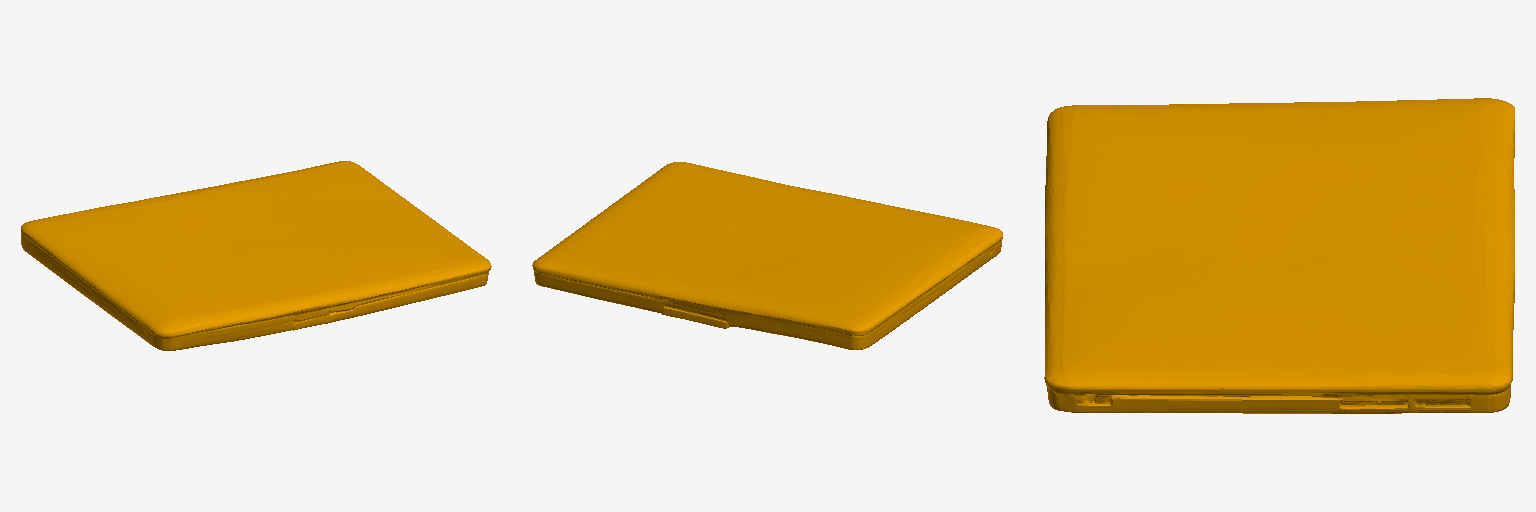
The robot description file, URDF, robot "sample":
<?xml version="1.0" ?>
<robot name="sample">
   <link name="sample">
      <visual>
         <origin xyz="0 0 0" rpy="1.5708 0.0 0.0"/>
         <geometry>
            <mesh filename="mesh/sample.obj" scale="1.0 1.0 1.0"/>
         </geometry>
      </visual>
      <collision>
         <origin xyz="0 0 0" rpy="1.5708 0.0 0.0"/>
         <geometry>
            <mesh filename="mesh/sample_collision.obj" scale="1.0 1.0 1.0"/>
         </geometry>
         <gazebo>
            <mu1>0.70</mu1>
            <mu2>0.55</mu2>
         </gazebo>
      </collision>
      <inertial>
         <mass value="1.5000"/>
         <origin xyz="0 0 0"/>
         <inertia ixx="1.0" ixy="0.0" ixz="0.0" iyy="1.0" iyz="0.0" izz="1.0"/>
      </inertial>
      <extra_info>
         <scale>0.191229</scale>
         <version>v0.1.7</version>
         <category>laptop</category>
         <description>slim silver laptop with closed lid and visible ports</description>
         <min_height>0.018</min_height>
         <max_height>0.025</max_height>
         <real_height>0.0215</real_height>
         <min_mass>1.2</min_mass>
         <max_mass>1.8</max_mass>
         <generate_time>20260309173232</generate_time>
         <gs_model>mesh/sample_gs.ply</gs_model>
      </extra_info>
   </link>
   <custom_data>
      <quality>
         <MeshGeoChecker>YES</MeshGeoChecker>
         <ImageSegChecker>NO, object is not properly isolated; background elements remain and segmentation is inaccurate.</ImageSegChecker>
         <ImageAestheticChecker>4.8562222719192505</ImageAestheticChecker>
         <overall>NO</overall>
      </quality>
   </custom_data>
</robot>

--- Render facts (derived) ---
Views: 3 orthographic renders of the robot side by side, from view 1: azimuth 30°, elevation 25°; view 2: azimuth 150°, elevation 25°; view 3: azimuth 270°, elevation 25°.
Model sample with 1 links and 0 joints (none), rooted at sample, posed all joints at 0.
Links seen in each view (by area): view 1: sample; view 2: sample; view 3: sample.
Link boxes in pixels (x1,y1,x2,y2): sample: (21, 161, 491, 350); sample: (532, 162, 1002, 349); sample: (1044, 98, 1514, 413).
Size in the robot's own frame: 0.1912 by 0.1447 by 0.0215 metres.
Meshes: 1 distinct files referenced, 1 mesh visuals loaded (1 OBJ).
